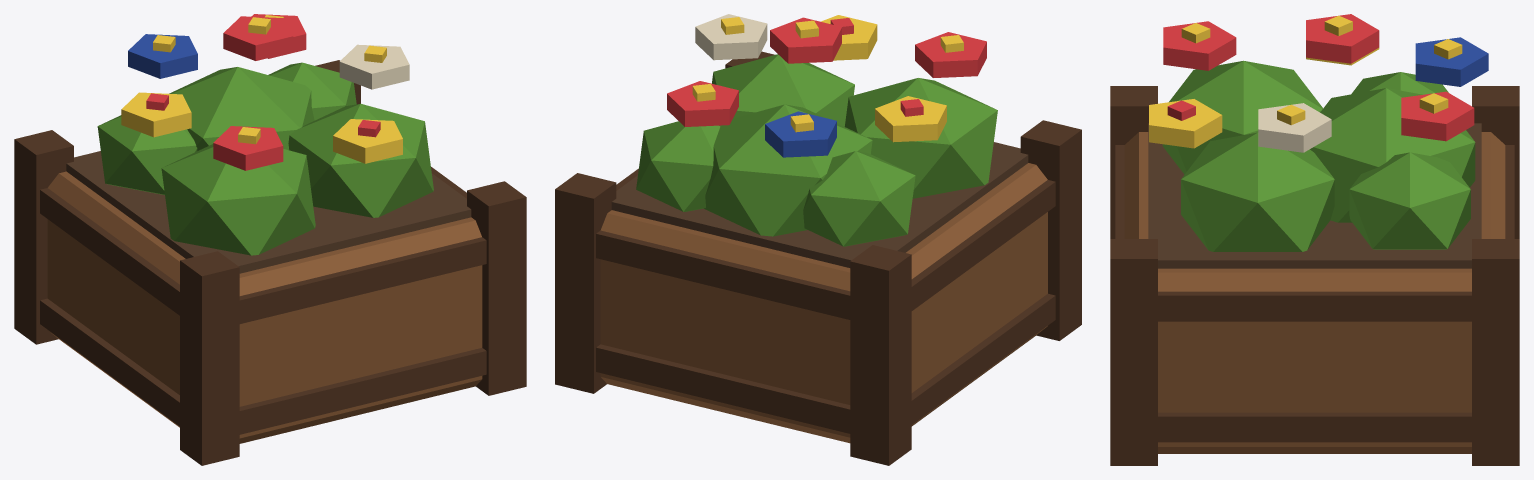
The model's file is Blumen.fbx.
3 views of the same model, side by side, from view 1: azimuth 30°, elevation 25°; view 2: azimuth 150°, elevation 25°; view 3: azimuth 270°, elevation 25° (orthographic). The views are drawn at different scales.
Parts seen in each view (by area): view 1: Blumen; view 2: Blumen; view 3: Blumen.
Boxes of the visible parts, x1,y1,x2,y2 form: Blumen: (14, 14, 526, 465); Blumen: (555, 14, 1081, 465); Blumen: (1110, 14, 1519, 465).
Bounding box in the file's own units: 0.86 × 0.83 × 0.86.
